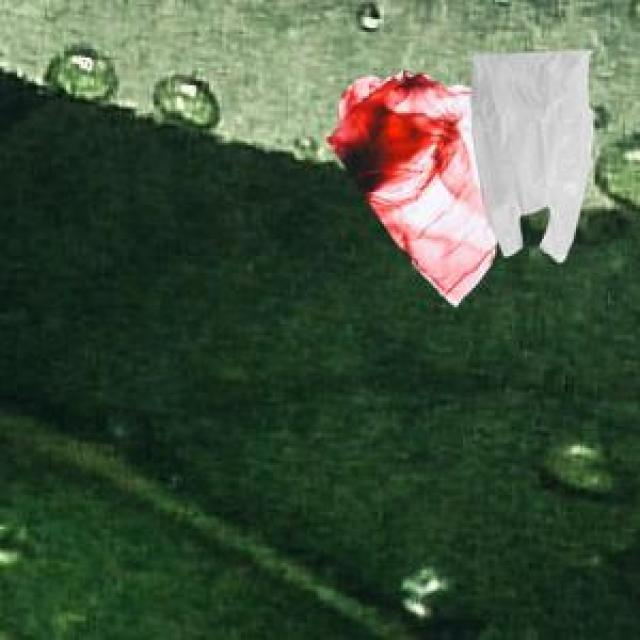waste: (328, 52, 592, 304)
